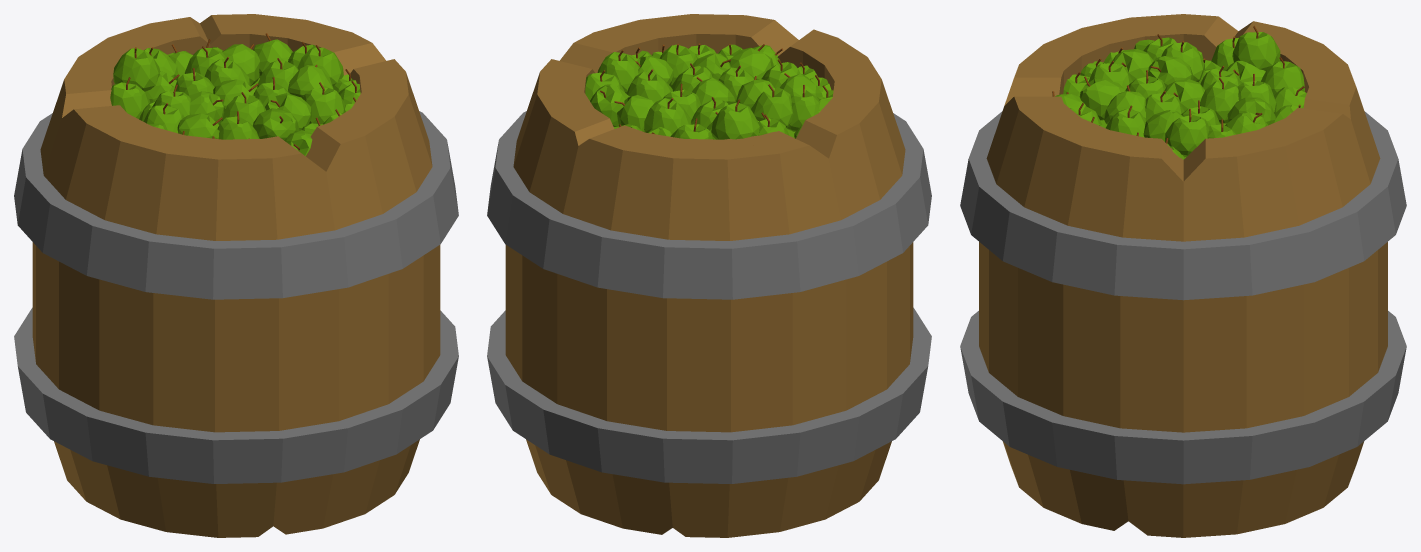
The model's file is Barrel_Fruit_Pears.fbx.
The picture shows the model from 3 angles, left to right: view 1: azimuth 30°, elevation 25°; view 2: azimuth 150°, elevation 25°; view 3: azimuth 270°, elevation 25°; orthographic projection.
Visible parts, largest first — view 1: Barrel2.002, Pear .031, Pear .001, Pear .059, Pear .035, Pear .045, Pear .039, Pear .061, Pear .021, Pear .083, Pear .049, Pear .017 (+9 smaller); view 2: Barrel2.002, Pear .031, Pear .025, Pear .077, Pear .039, Pear .069, Pear .081, Pear .001, Pear .015, Pear .083, Pear .059, Pear .067 (+10 smaller); view 3: Barrel2.002, Pear .031, Pear .039, Pear .063, Pear .001, Pear .071, Pear .017, Pear .067, Pear .021, Pear .025, Pear .059, Pear .061 (+10 smaller).
Part boxes in pixels (bbox=[...]): Barrel2.002: bbox=[14, 14, 458, 537]; Pear .031: bbox=[113, 48, 160, 91]; Pear .001: bbox=[253, 108, 299, 140]; Pear .059: bbox=[303, 88, 345, 124]; Pear .035: bbox=[110, 82, 150, 118]; Pear .045: bbox=[288, 65, 333, 98]; Pear .039: bbox=[297, 47, 343, 86]; Pear .061: bbox=[265, 93, 311, 130]; Pear .021: bbox=[177, 113, 219, 138]; Pear .083: bbox=[222, 44, 259, 85]; Pear .049: bbox=[222, 94, 265, 125]; Pear .017: bbox=[188, 91, 224, 124]; Barrel2.002: bbox=[487, 14, 931, 537]; Pear .031: bbox=[711, 102, 759, 139]; Pear .025: bbox=[751, 87, 793, 127]; Pear .077: bbox=[644, 98, 691, 133]; Pear .039: bbox=[597, 52, 639, 93]; Pear .069: bbox=[627, 71, 672, 101]; Pear .081: bbox=[590, 84, 629, 126]; Pear .001: bbox=[729, 47, 773, 79]; Pear .015: bbox=[786, 90, 819, 131]; Pear .083: bbox=[617, 95, 655, 132]; Pear .059: bbox=[659, 44, 697, 86]; Pear .067: bbox=[692, 77, 735, 105]; Barrel2.002: bbox=[960, 14, 1406, 537]; Pear .031: bbox=[1232, 32, 1280, 70]; Pear .039: bbox=[1165, 115, 1209, 157]; Pear .063: bbox=[1200, 80, 1238, 123]; Pear .001: bbox=[1079, 78, 1125, 120]; Pear .071: bbox=[1261, 61, 1304, 94]; Pear .017: bbox=[1148, 56, 1193, 87]; Pear .067: bbox=[1163, 79, 1204, 111]; Pear .021: bbox=[1111, 49, 1153, 80]; Pear .025: bbox=[1161, 42, 1204, 82]; Pear .059: bbox=[1106, 108, 1145, 137]; Pear .061: bbox=[1104, 91, 1146, 124].
Size of the model in its own units: 150 by 151 by 150.
